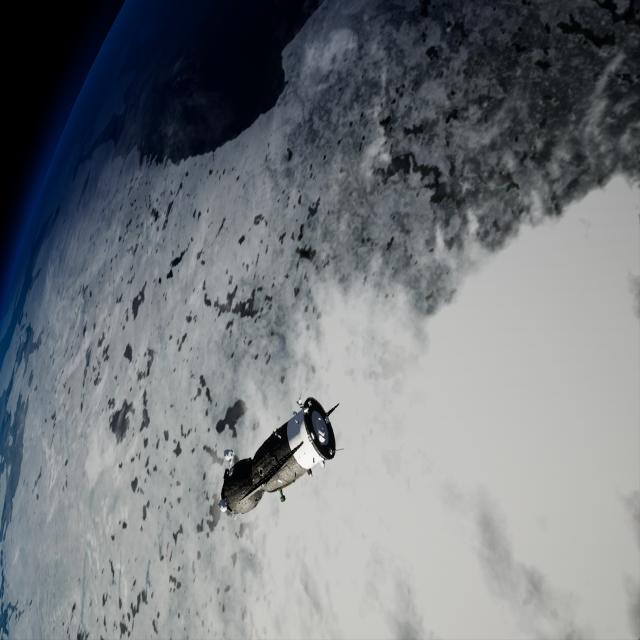Satellites revolving around earth: (217, 394, 341, 519)
